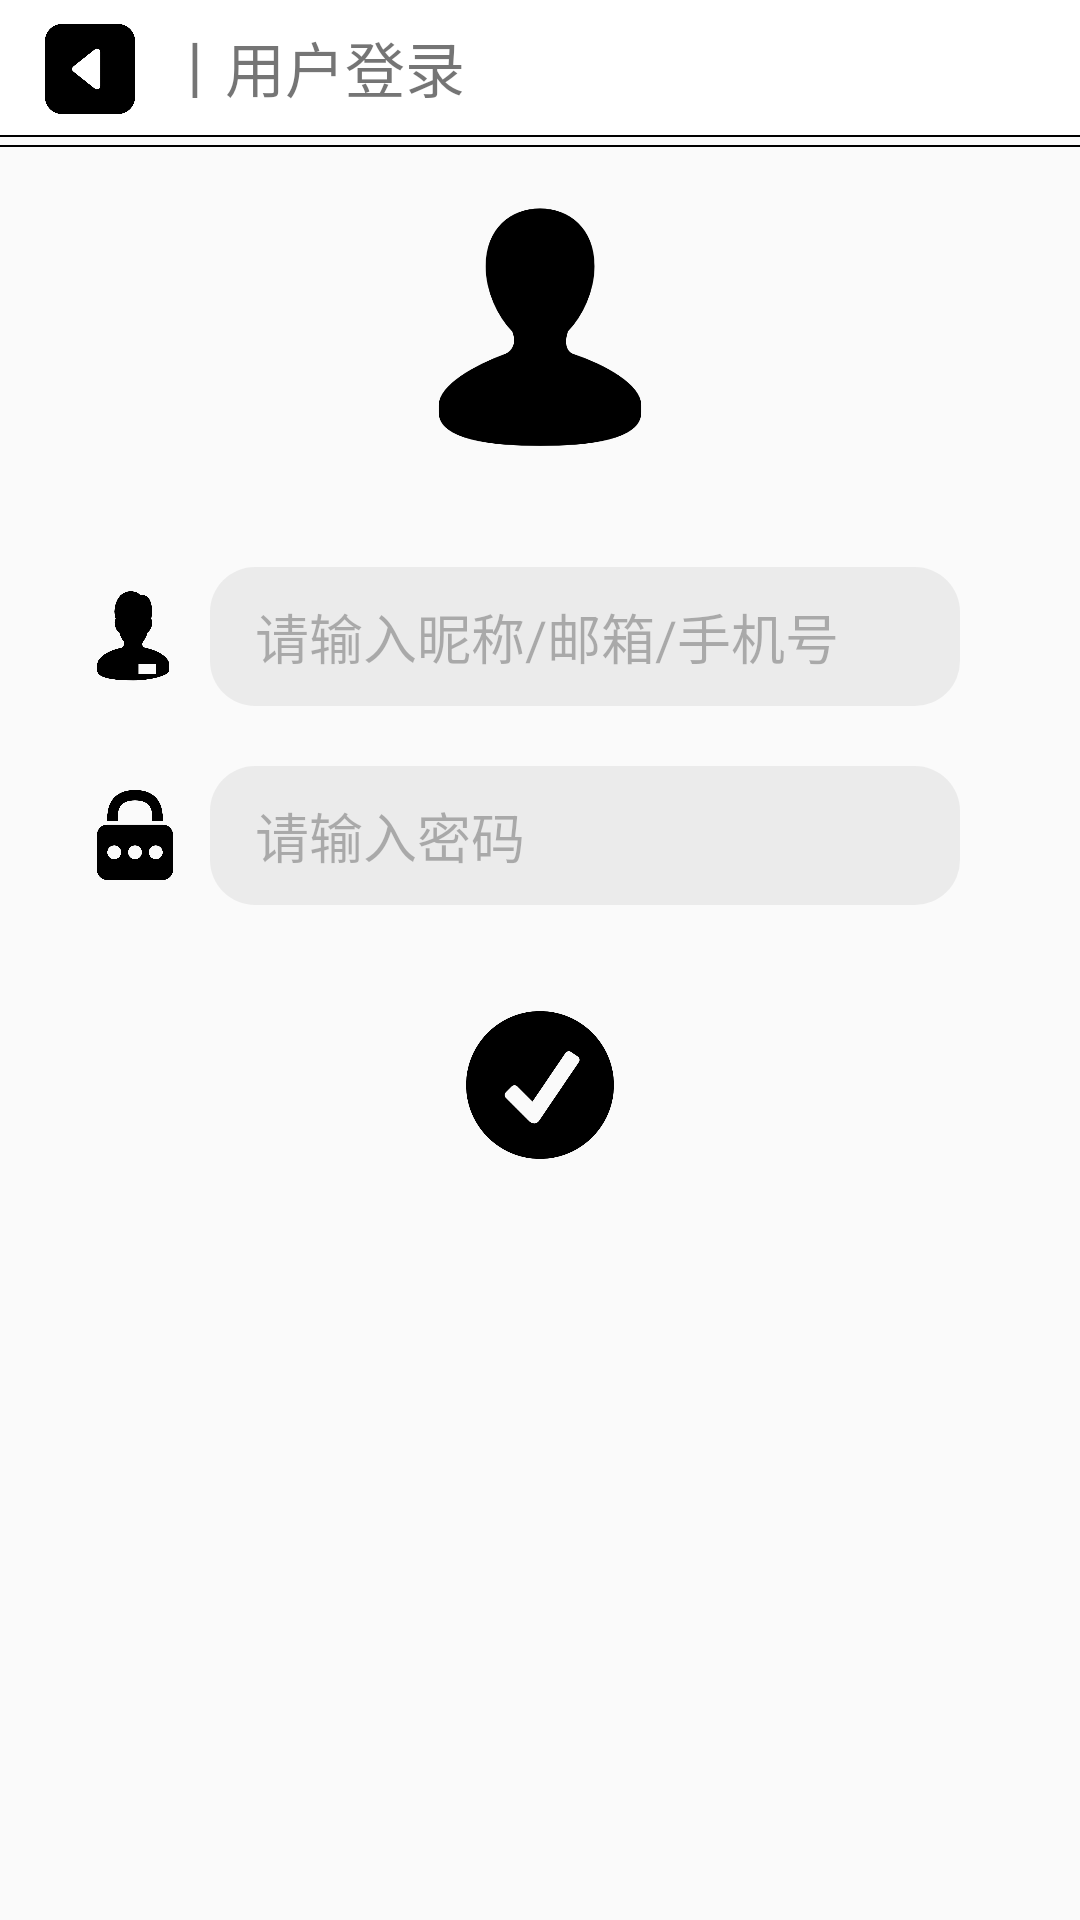

Where to tap for icons on this 1080 × 1920 app screen, as (x=x, y=y):
back: (x=90, y=69)
face: (x=540, y=327)
name input: (x=133, y=636)
password: (x=135, y=835)
